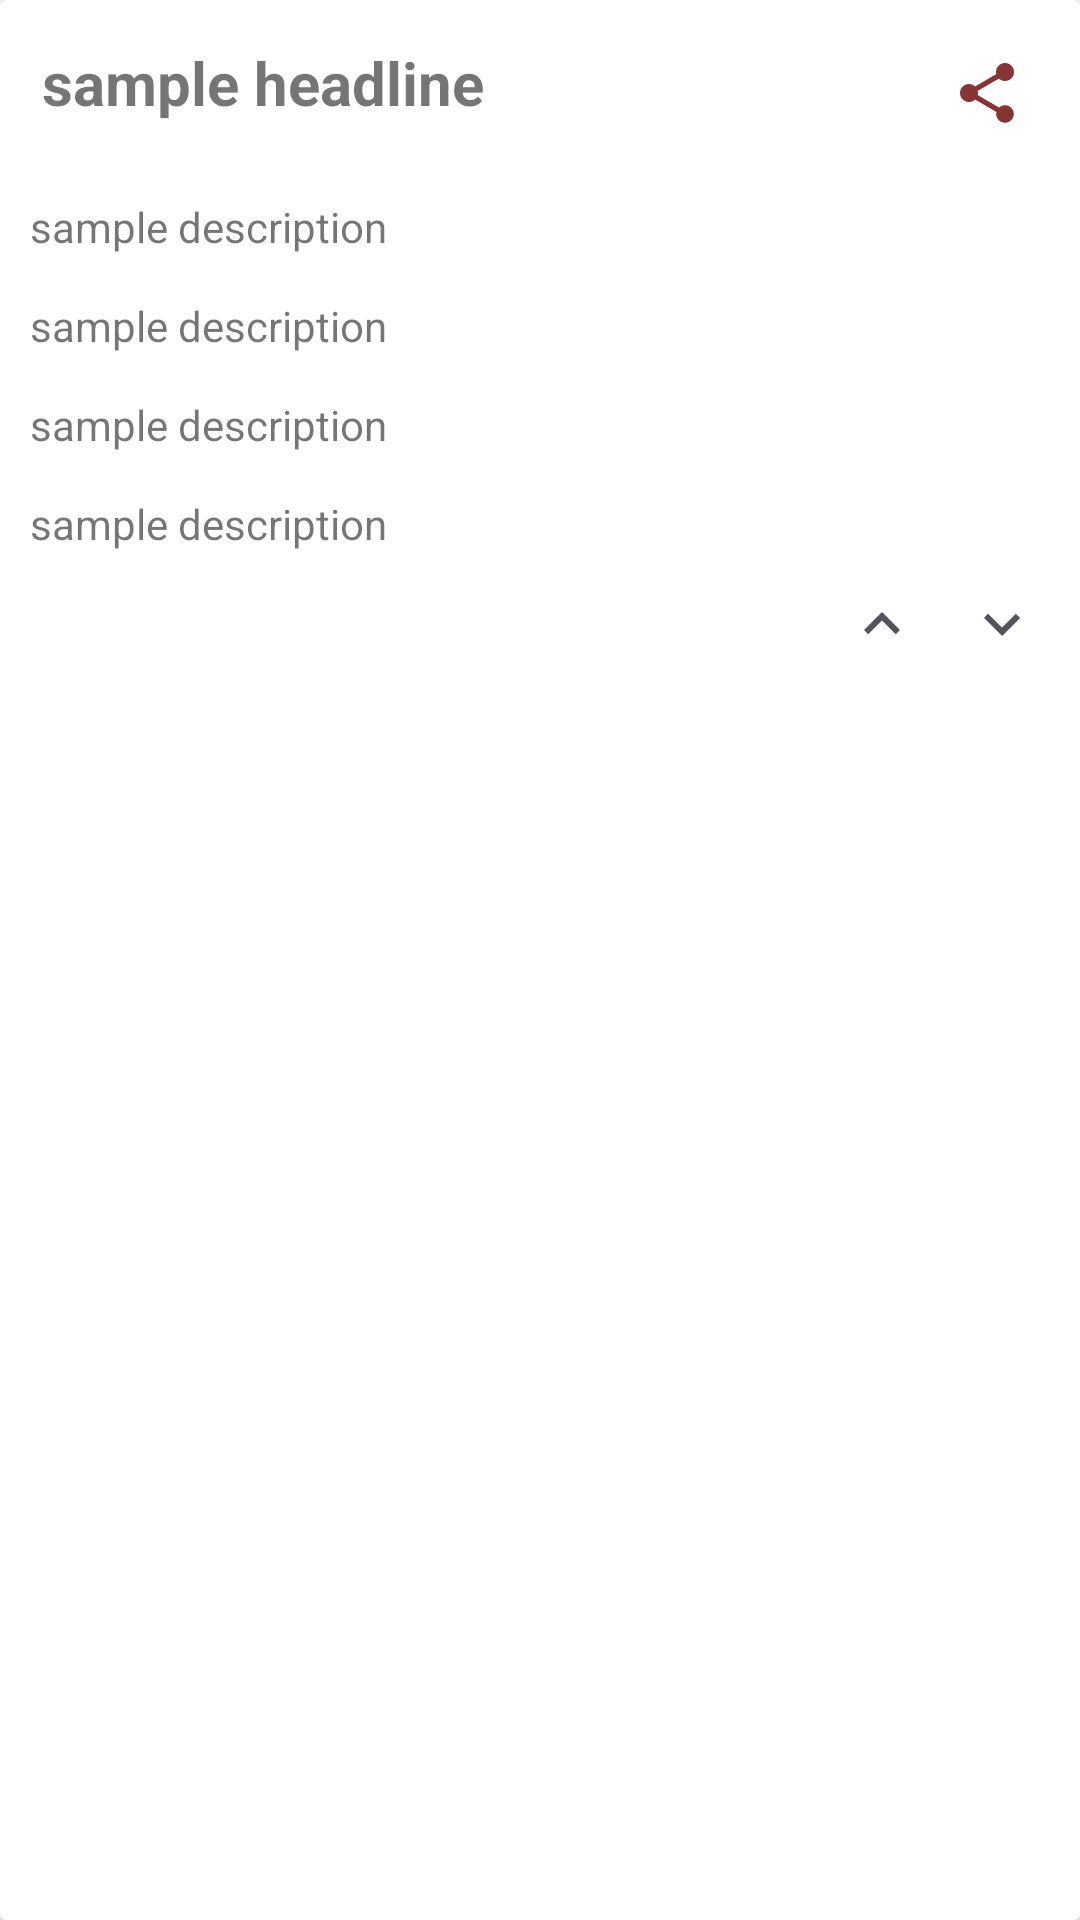

Icons on this 1080 x 1920 Android screen, each with the point to tap as (x=x, y=y):
downvote: (x=1002, y=625)
share: (x=987, y=93)
upvote: (x=882, y=623)
